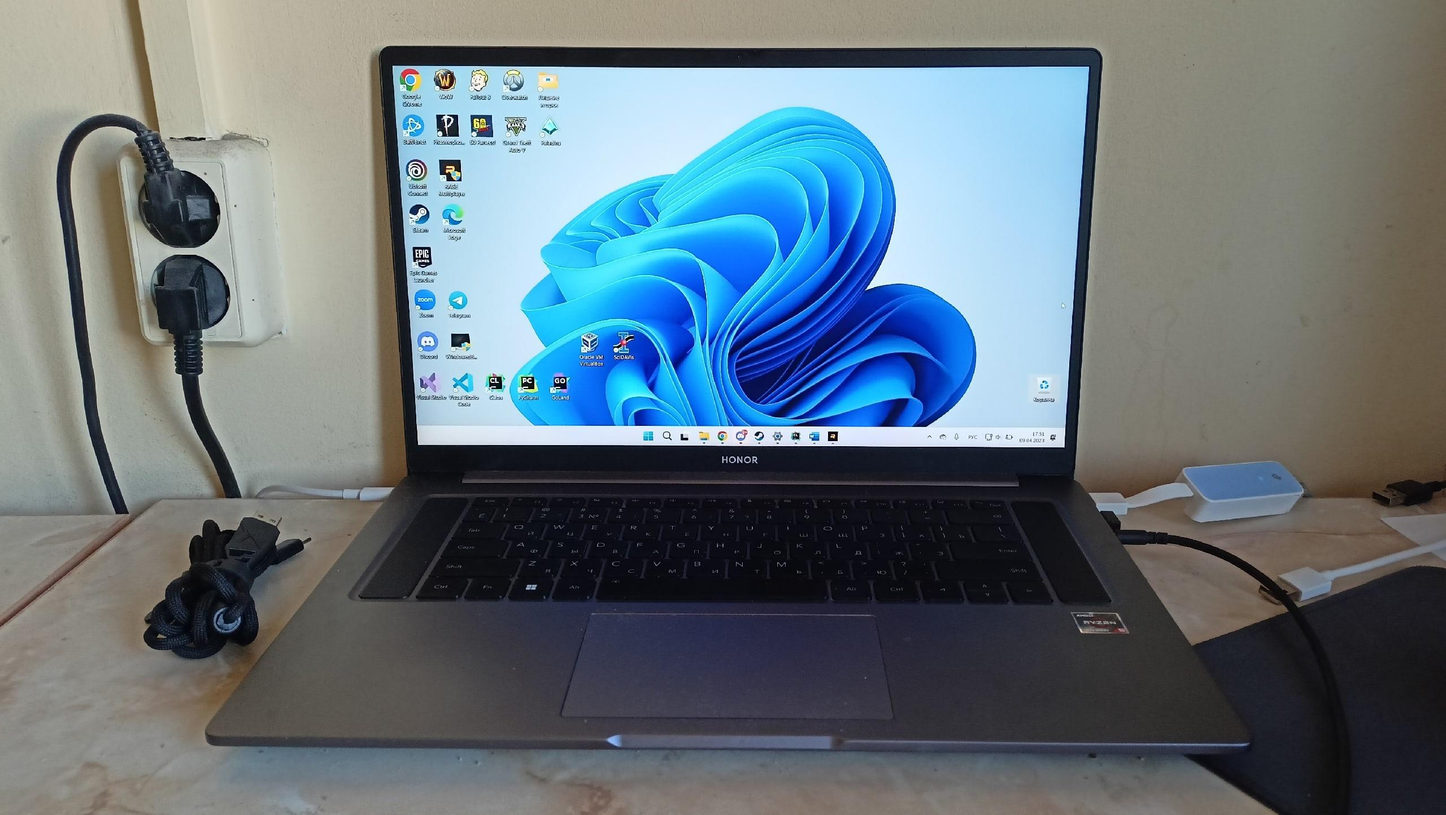monitor: (378, 43, 1103, 490)
